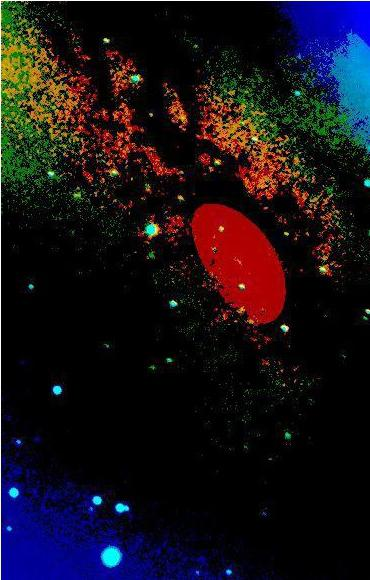star: (232, 427, 262, 457)
